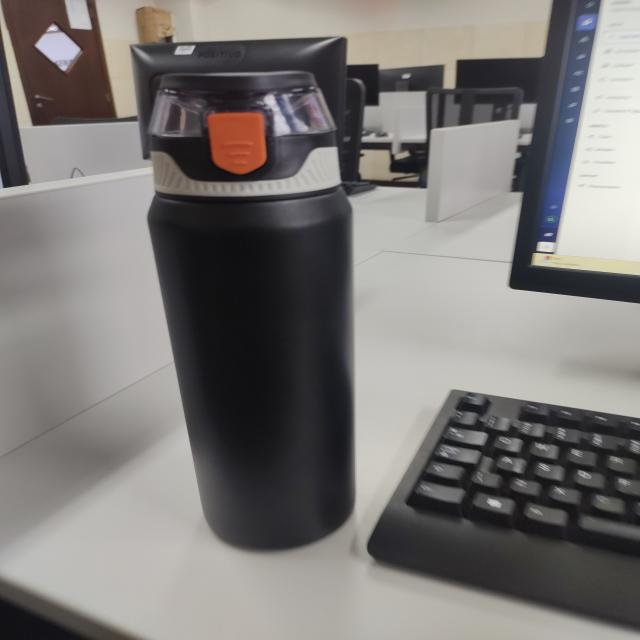Garrafa: (145, 70, 358, 552)
